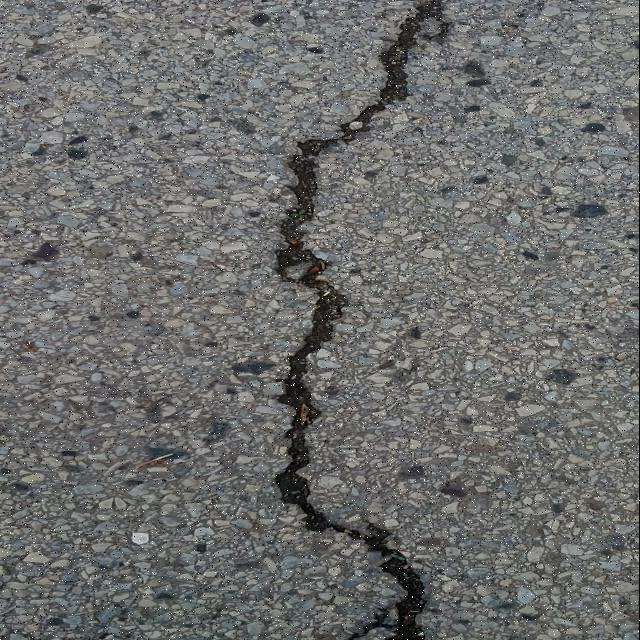Crack: (271, 0, 456, 640)
